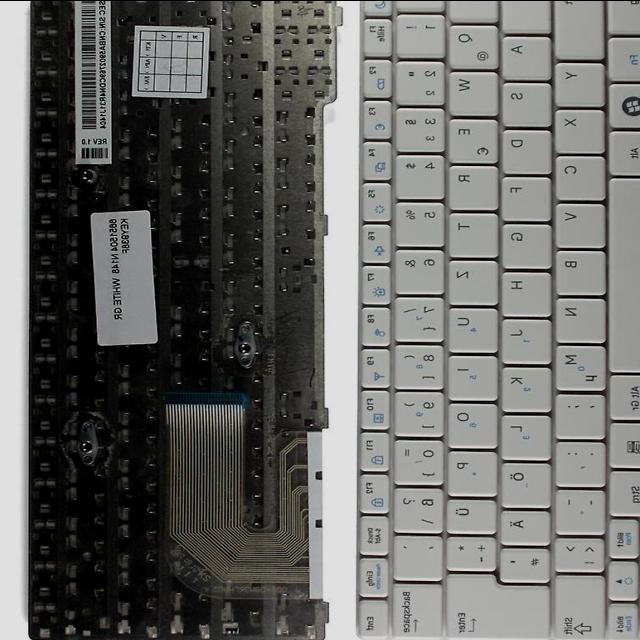0: (389, 435, 443, 481)
1: (391, 10, 443, 54)
2: (391, 56, 443, 102)
3: (392, 102, 444, 149)
4: (391, 150, 443, 195)
5: (391, 196, 443, 243)
6: (391, 245, 443, 292)
7: (391, 292, 444, 339)
8: (391, 339, 443, 385)
9: (390, 387, 443, 433)
a: (499, 32, 549, 76)
accent: (388, 531, 440, 578)
ae: (496, 507, 548, 542)
alt-left: (605, 127, 640, 174)
altgr-right: (605, 371, 640, 418)
b: (551, 245, 604, 293)
c: (551, 151, 604, 198)
caret: (391, 0, 442, 6)
comma: (551, 388, 603, 436)
d: (498, 125, 550, 171)
del: (387, 581, 440, 637)
e: (444, 114, 497, 161)
enter: (442, 570, 550, 637)
f: (497, 172, 549, 218)
g: (498, 219, 550, 265)
h: (497, 267, 549, 313)
hash: (496, 544, 548, 580)
i: (443, 350, 495, 397)
j: (497, 315, 550, 361)
k: (497, 363, 550, 409)
keyboard: (346, 0, 640, 640)
l: (497, 410, 550, 457)
less: (550, 534, 603, 570)
m: (551, 340, 605, 388)
minus: (551, 484, 603, 533)
n: (551, 293, 604, 340)
o: (443, 397, 495, 445)
oe: (497, 457, 549, 504)
p: (442, 446, 495, 493)
plus: (441, 532, 494, 568)
point: (551, 437, 603, 485)
q: (445, 20, 498, 66)
r: (444, 161, 497, 207)
s: (499, 78, 549, 124)
shift-left: (550, 0, 602, 56)
shift-lock: (498, 0, 548, 29)
shift-right: (550, 574, 603, 640)
space: (604, 175, 640, 371)
ss: (388, 482, 442, 530)
strg-left: (604, 1, 640, 31)
strg-right: (605, 467, 640, 515)
t: (444, 209, 496, 255)
tab: (445, 0, 497, 18)
u: (443, 303, 496, 349)
ue: (441, 495, 494, 530)
v: (551, 198, 604, 245)
w: (444, 68, 496, 112)
x: (551, 105, 603, 150)
y: (551, 58, 603, 102)
z: (444, 255, 496, 302)
